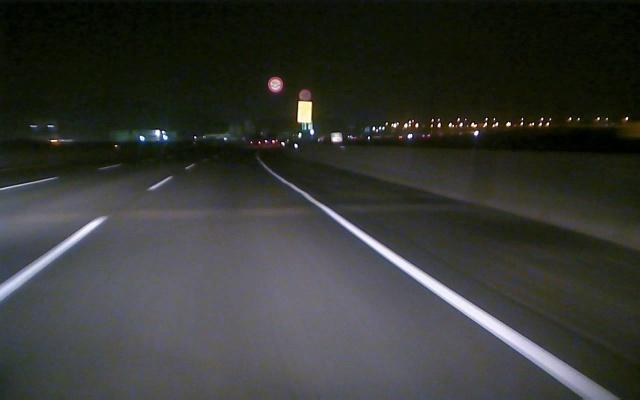lane: (273, 173, 616, 396), (2, 178, 167, 299), (0, 163, 127, 191)
